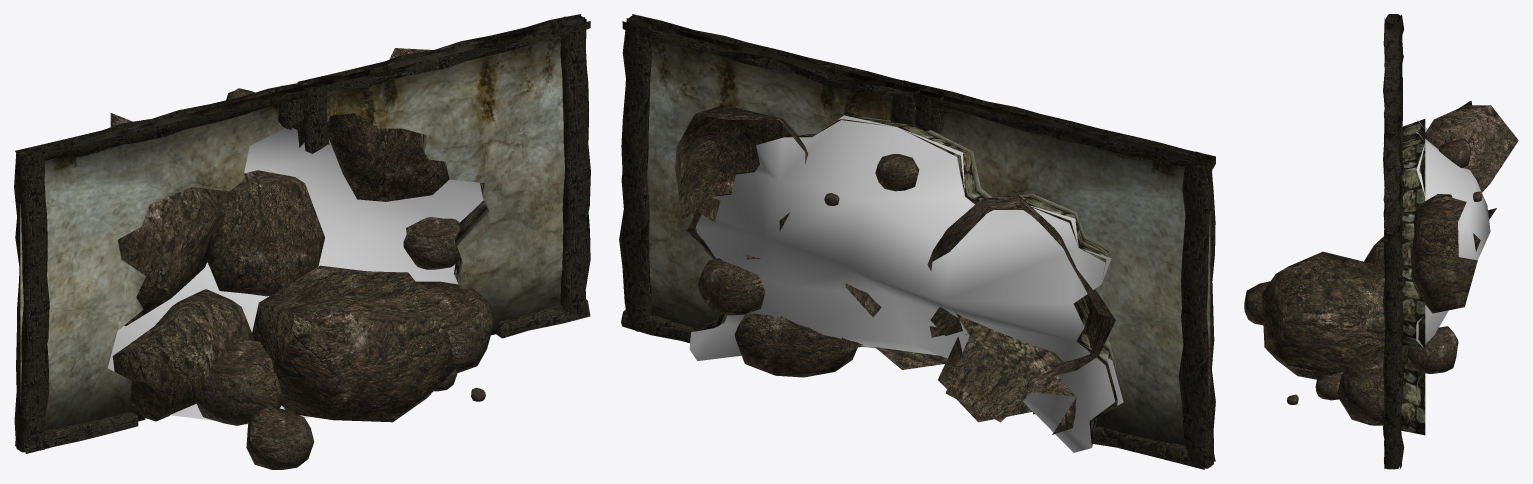
File: default_extension_broken.dae
The picture shows the model from 3 angles, left to right: view 1: azimuth 30°, elevation 25°; view 2: azimuth 150°, elevation 25°; view 3: azimuth 270°, elevation 25°; orthographic projection. The views are drawn at different scales.
Parts seen in each view (by area): view 1: polySurface111, polySurface33, polySurface83, polySurface68, polySurface444, polySurface34; view 2: polySurface68, polySurface33, polySurface111, polySurface83, polySurface444, polySurface34; view 3: polySurface111, polySurface34, polySurface83, polySurface68, polySurface444.
Boxes of the visible parts, bbox=[...] form: polySurface111: bbox=[110, 48, 494, 469]; polySurface33: bbox=[20, 17, 584, 430]; polySurface83: bbox=[14, 15, 590, 452]; polySurface68: bbox=[108, 116, 483, 424]; polySurface444: bbox=[15, 14, 590, 453]; polySurface34: bbox=[419, 133, 489, 287]; polySurface68: bbox=[689, 115, 1123, 452]; polySurface33: bbox=[626, 18, 1210, 445]; polySurface111: bbox=[675, 105, 1115, 434]; polySurface83: bbox=[619, 15, 1215, 468]; polySurface444: bbox=[621, 14, 1215, 469]; polySurface34: bbox=[687, 117, 1119, 446]; polySurface111: bbox=[1244, 100, 1518, 425]; polySurface34: bbox=[1400, 119, 1425, 435]; polySurface83: bbox=[1383, 14, 1404, 469]; polySurface68: bbox=[1416, 119, 1490, 399]; polySurface444: bbox=[1383, 14, 1403, 469].
Bounding box in the file's own units: 8.09 × 4.1 × 4.22.
